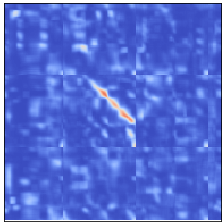action_path: (61, 75, 135, 149)
